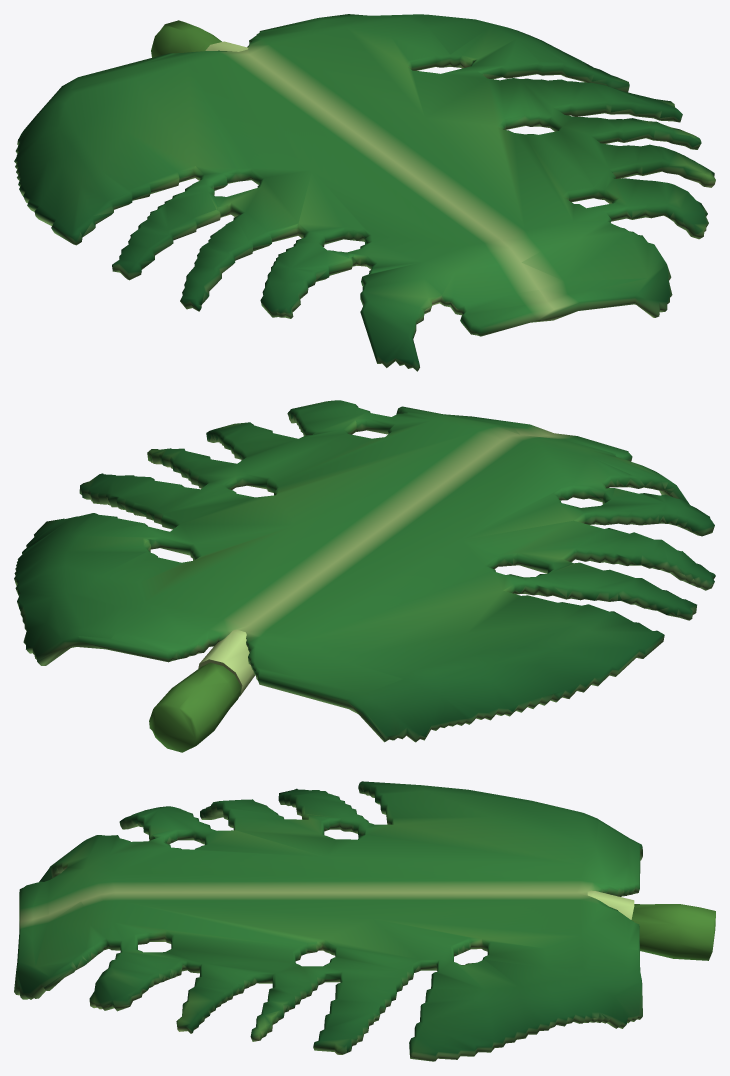
Rendered from canopy_monstera_leaf_lod1.glb.
3 views of the same model, one above another, from view 1: azimuth 30°, elevation 25°; view 2: azimuth 150°, elevation 25°; view 3: azimuth 270°, elevation 25° (orthographic). The views are drawn at different scales.
Visible parts, largest first — view 1: canopy_monstera_leaf.001; view 2: canopy_monstera_leaf.001; view 3: canopy_monstera_leaf.001.
Part boxes in pixels (x1,y1,x2,y2): canopy_monstera_leaf.001: [14, 14, 715, 371]; canopy_monstera_leaf.001: [14, 400, 715, 752]; canopy_monstera_leaf.001: [14, 781, 715, 1061].
Bounding box in the file's own units: 11.03 × 1.32 × 12.43.
